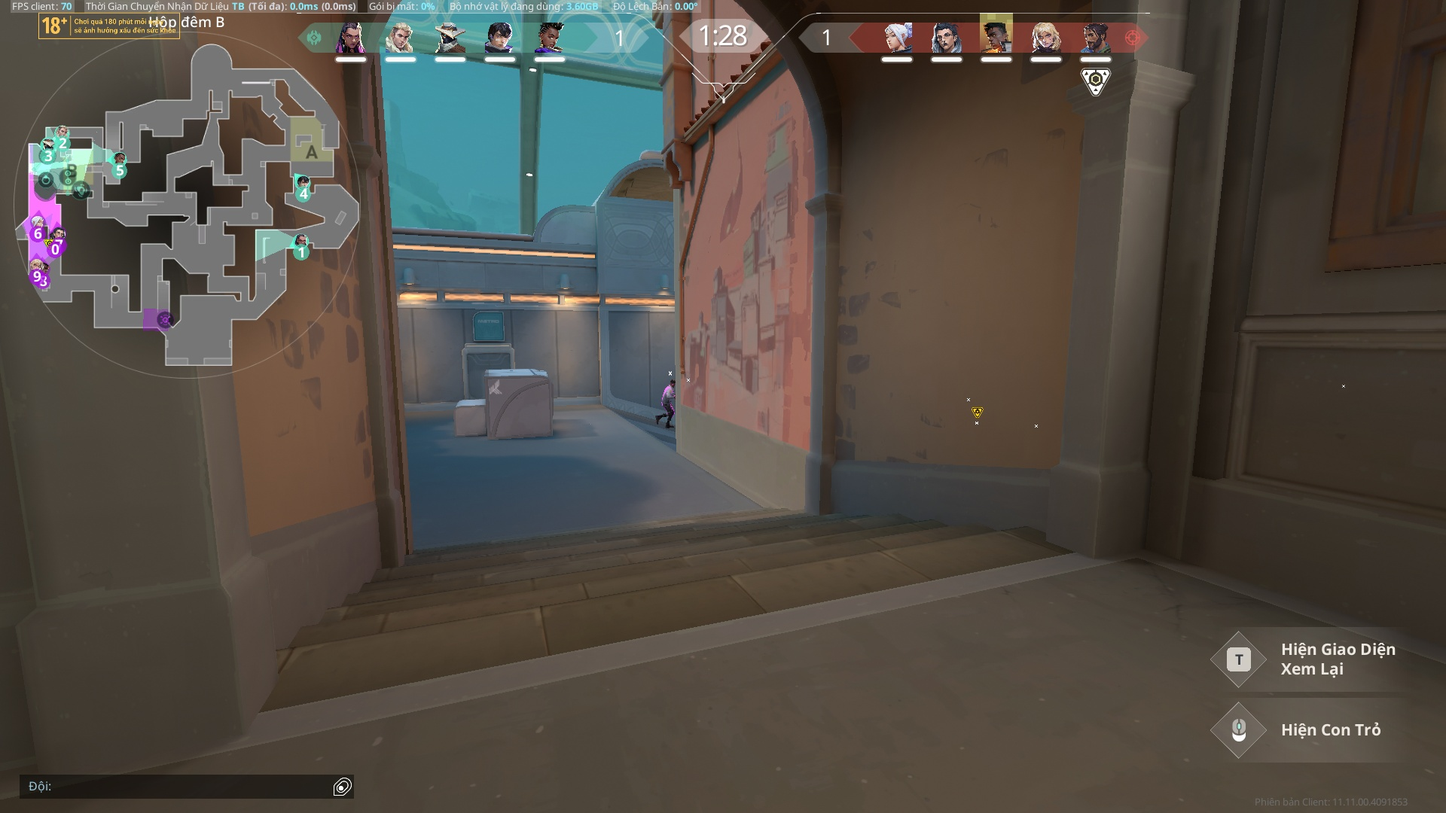body: (662, 384, 676, 404)
head: (670, 379, 676, 387)
